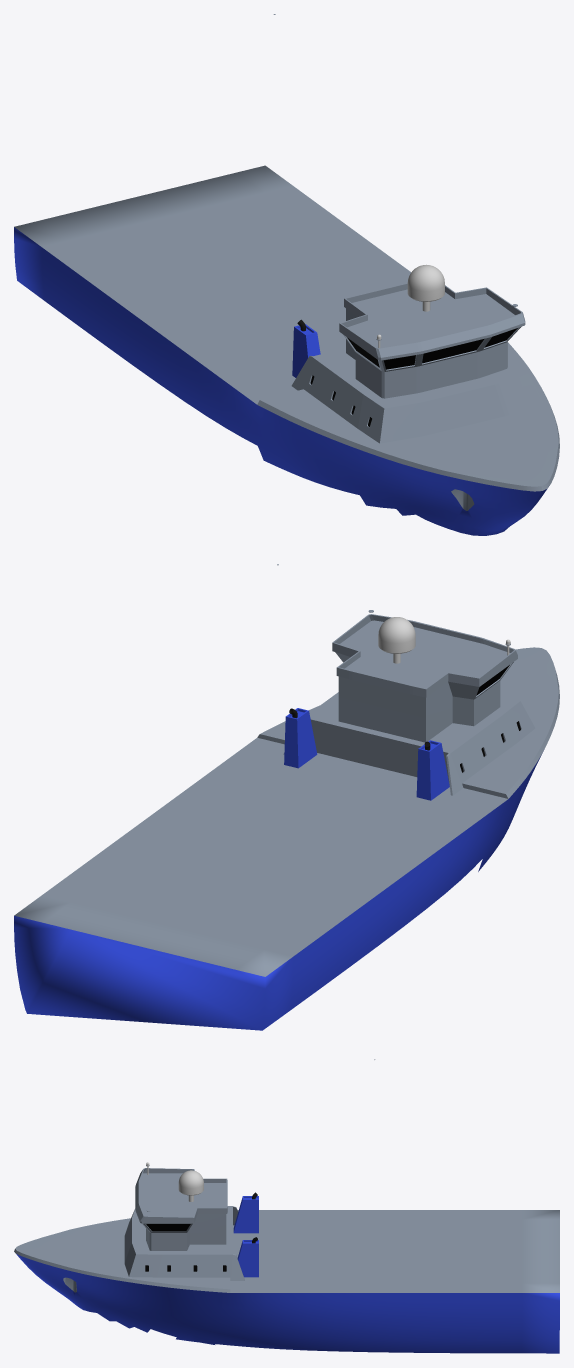
Rendered from ThirdFerry.fbx.
3 renders of one model, top to bottom at view 1: azimuth 30°, elevation 25°; view 2: azimuth 150°, elevation 25°; view 3: azimuth 270°, elevation 25°, orthographic. The views are drawn at different scales.
Parts seen in each view (by area): view 1: Cube.254, Cube.253, Sphere.047, Cube.252; view 2: Cube.254, Cube.253, Cube.252, Sphere.047; view 3: Cube.254, Cube.253, Cube.252, Sphere.047.
Part boxes in pixels (x1,y1,x2,y2): Cube.254: (14, 165, 559, 535); Cube.253: (291, 282, 543, 443); Sphere.047: (407, 264, 444, 301); Cube.252: (292, 324, 320, 377); Cube.254: (14, 647, 559, 1030); Cube.253: (283, 614, 535, 795); Cube.252: (284, 708, 449, 800); Sphere.047: (378, 617, 415, 653); Cube.254: (14, 1210, 559, 1353); Cube.253: (124, 1168, 244, 1280); Cube.252: (233, 1196, 258, 1277); Sphere.047: (178, 1170, 203, 1195).
Bounding box in the file's own units: 326 × 469 × 904.
